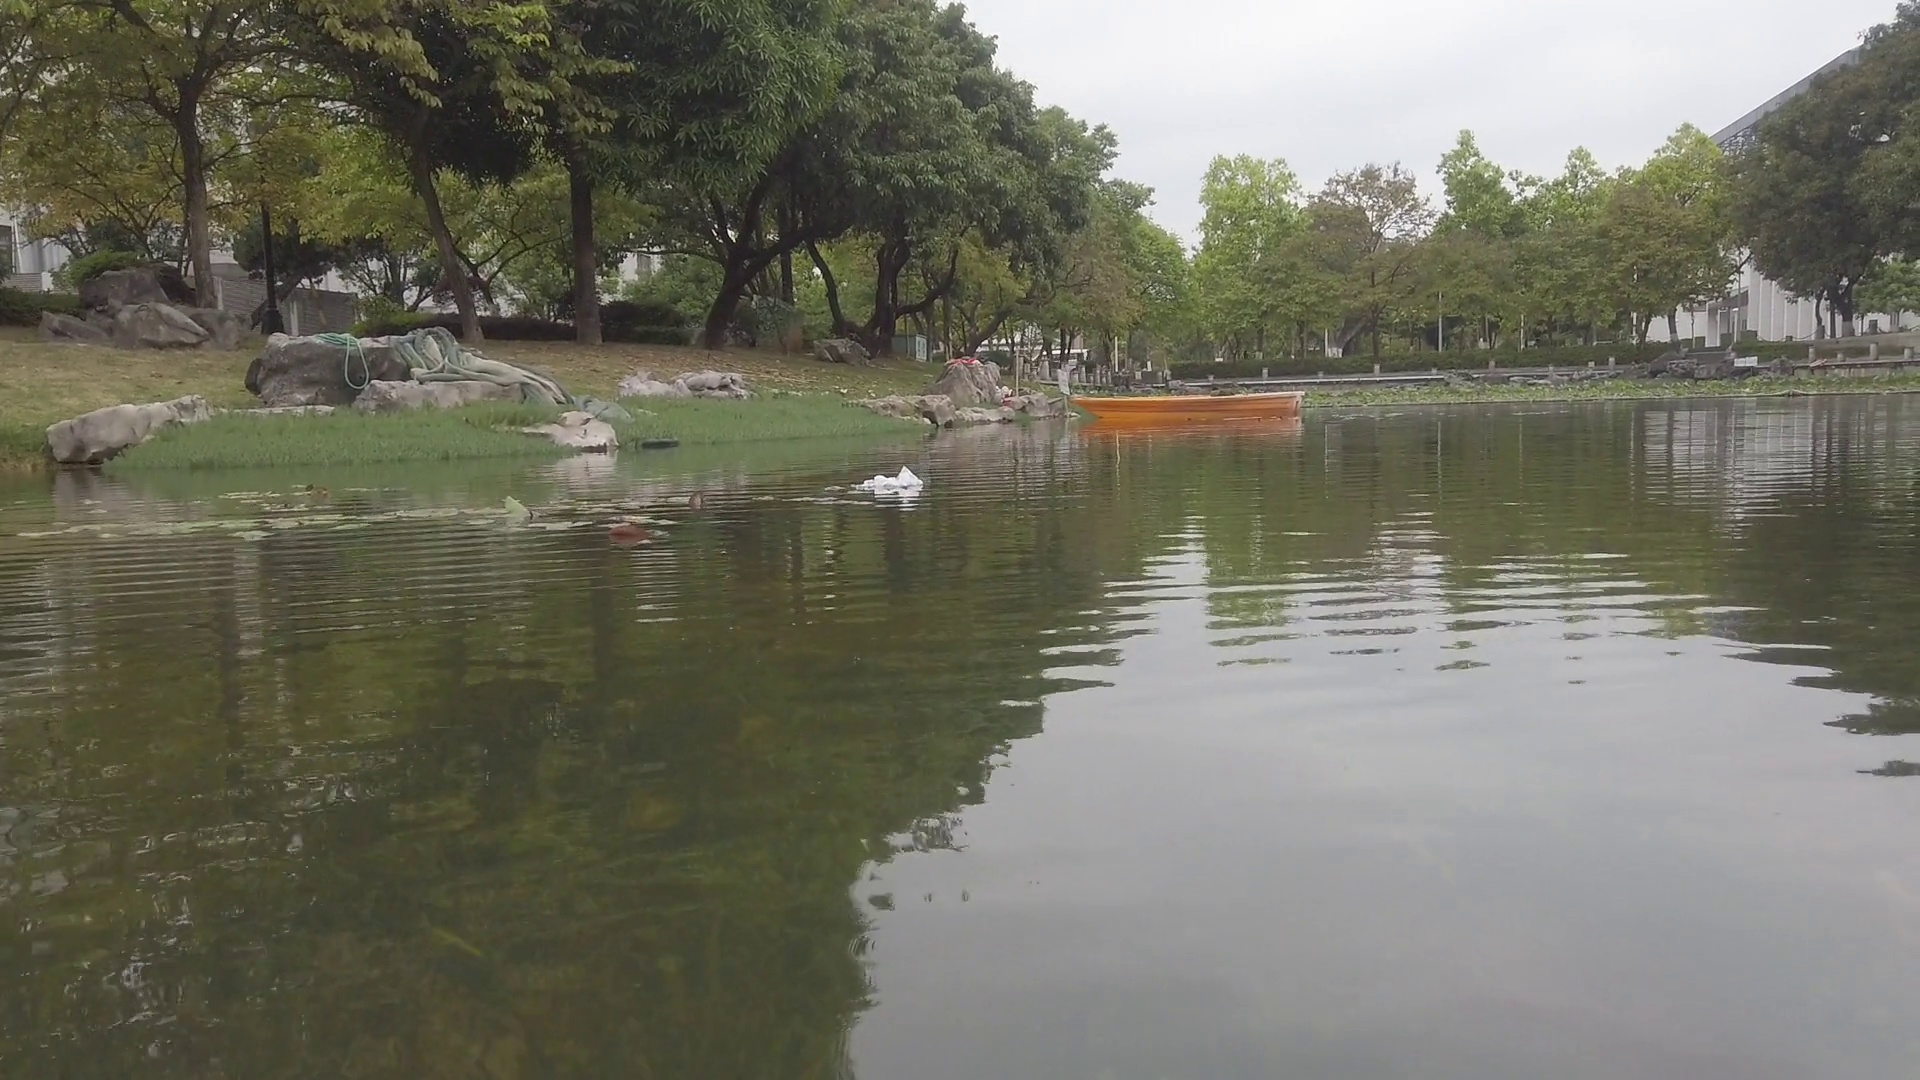plastic: (858, 464, 926, 493)
